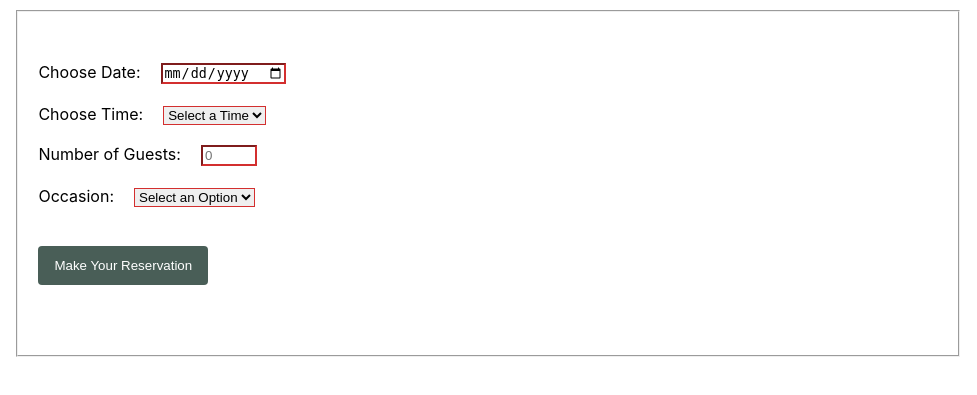
Test: BookingForm › shows validation error for past date
Type "2020-01-01" into the date field labelled "Choose Date:" at (223, 73), box 160,63 -> 286,84
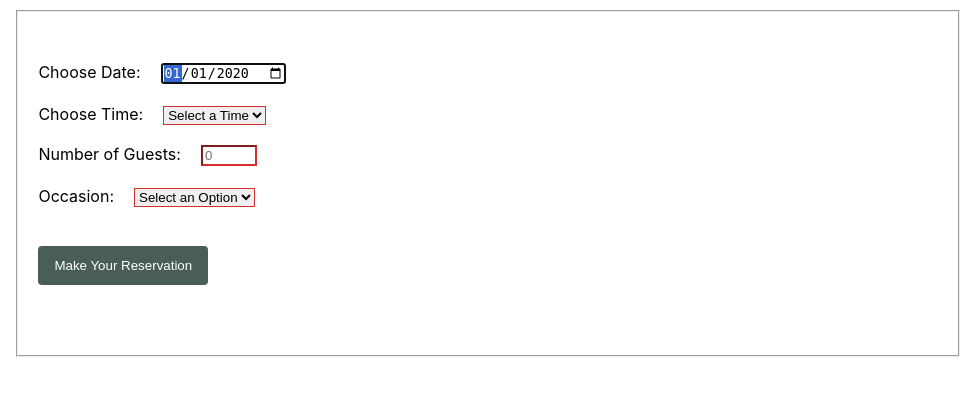
Press Tab
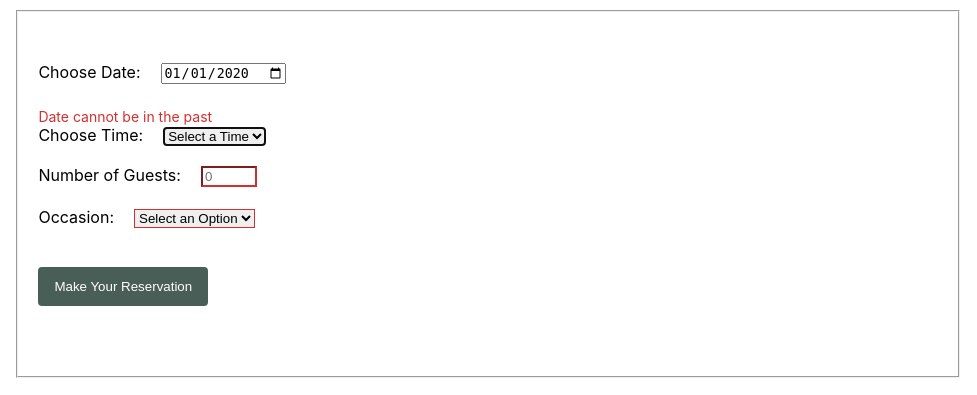
Expected: the text "Date cannot be in the past" is shown, 38,108 -> 212,125
